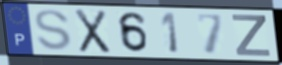1: (159, 11, 179, 56)
6: (116, 10, 149, 54)
7: (195, 12, 225, 56)
S: (33, 8, 74, 52)
X: (73, 7, 112, 55)
Z: (230, 13, 273, 58)
